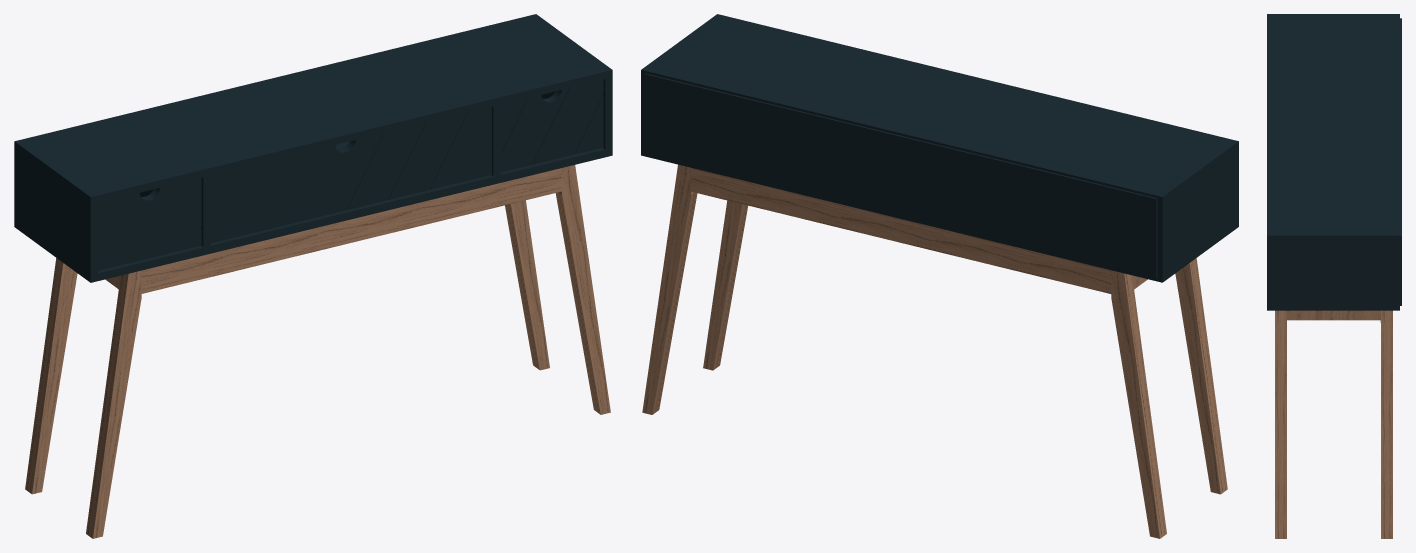
The model's file is 003_Aparador_Wada.glb.
3 views of the same model, side by side, from view 1: azimuth 30°, elevation 25°; view 2: azimuth 150°, elevation 25°; view 3: azimuth 270°, elevation 25° (orthographic). The views are drawn at different scales.
Parts seen in each view (by area): view 1: Box049.001; view 2: Box049.001; view 3: Box049.001.
Boxes of the visible parts, x1,y1,x2,y2 form: Box049.001: [14, 14, 612, 538]; Box049.001: [641, 14, 1238, 538]; Box049.001: [1267, 14, 1401, 538].
Size of the model in its own units: 1.43 by 0.9014 by 0.3651.
2 materials, 1 textured.
